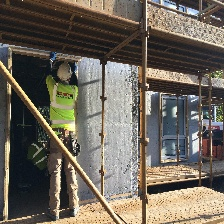helmet: (55, 59, 74, 83)
person: (47, 50, 79, 224)
vest: (50, 79, 78, 141)
